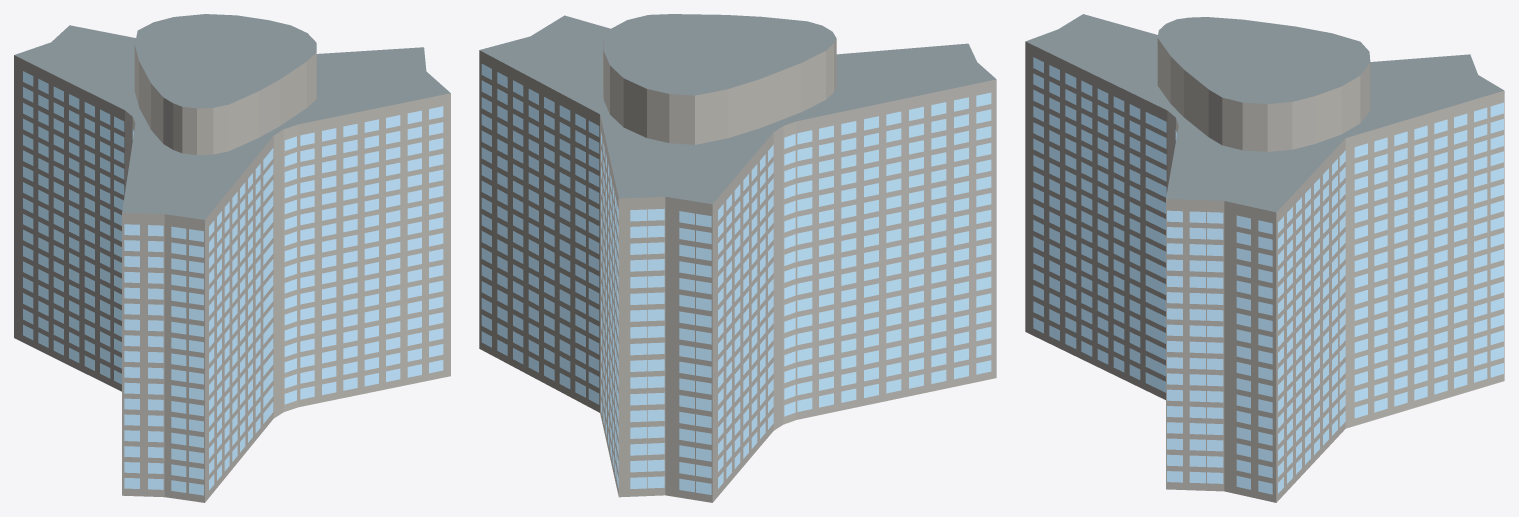
Rendered from detail.glb.
3 renders of one model, left to right at view 1: azimuth 30°, elevation 25°; view 2: azimuth 150°, elevation 25°; view 3: azimuth 270°, elevation 25°, orthographic. The views are drawn at different scales.
Parts seen in each view (by area): view 1: stone, window, roof; view 2: stone, window, roof; view 3: stone, window, roof.
Boxes of the visible parts, x1,y1,x2,y2 form: stone: (14,45,450,502); window: (23,71,443,495); roof: (14,14,450,219); stone: (479,38,996,502); window: (481,64,991,494); roof: (479,14,996,204); stone: (1025,38,1504,502); window: (1033,57,1503,494); roof: (1026,14,1503,212).
Size of the model in its own units: 73.25 by 58.24 by 74.73.
